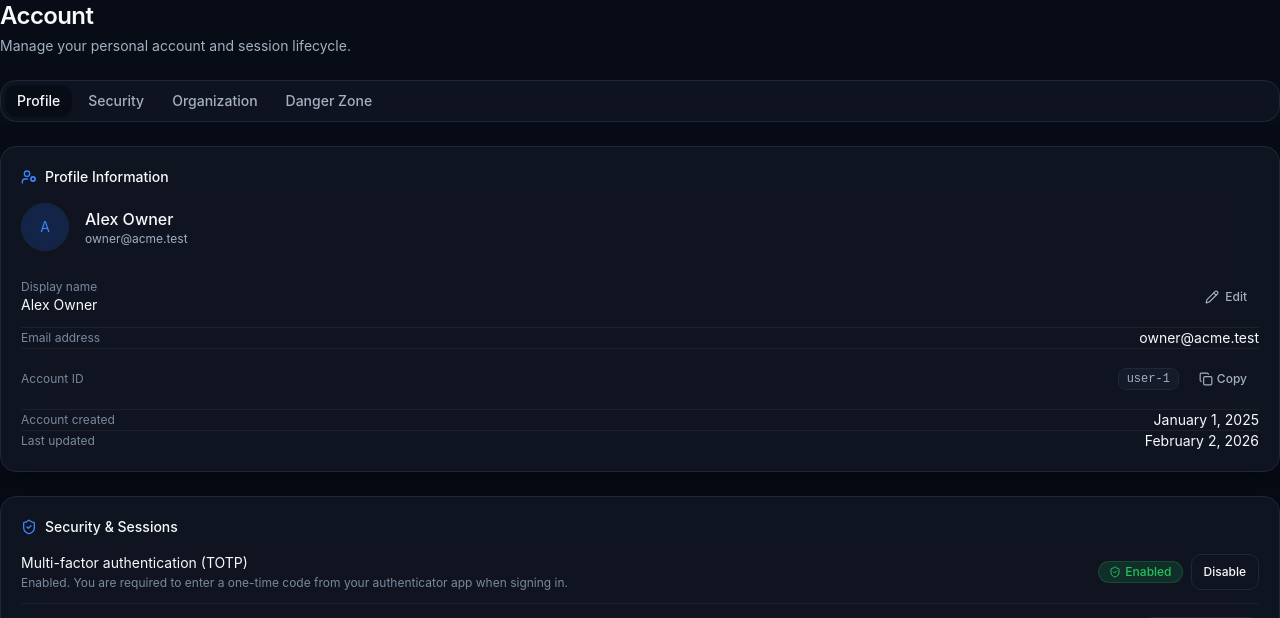
Scenario: Account Page Contract › display name editing › updates the display name via the authenticated-context-only PATCH
Click the button "Edit": (1226, 297) 1193,279 -> 1259,315
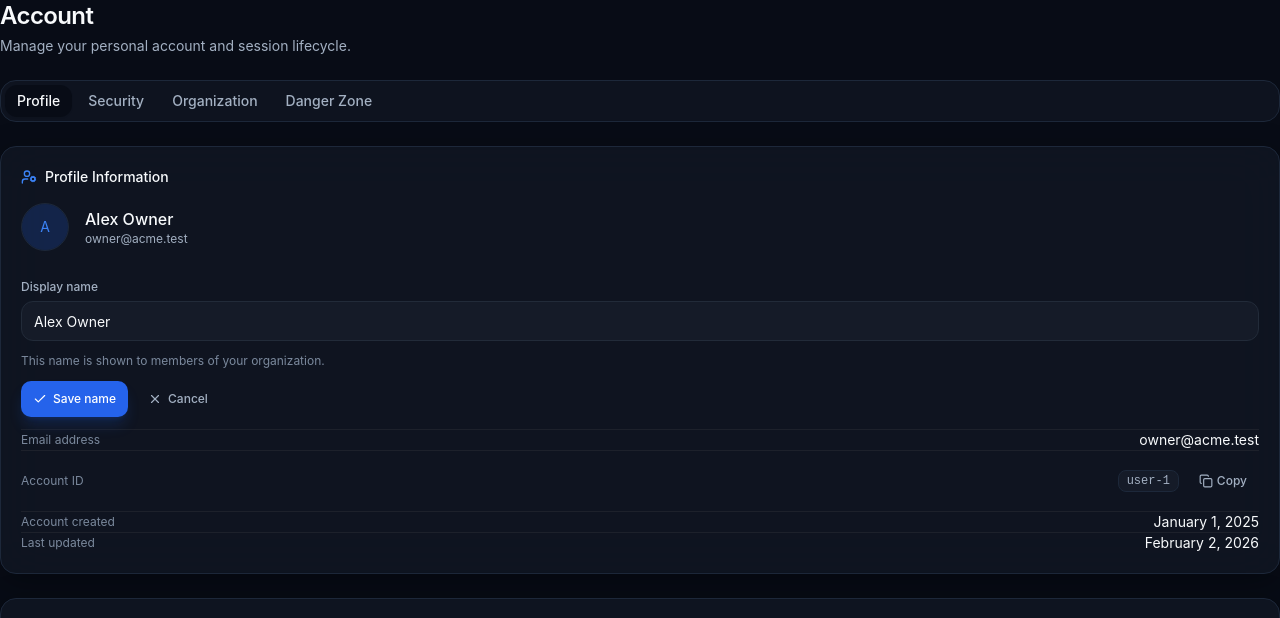
Replace the text in the field labelled "Display name" with "Renamed User": (640, 321) 21,301 -> 1259,341
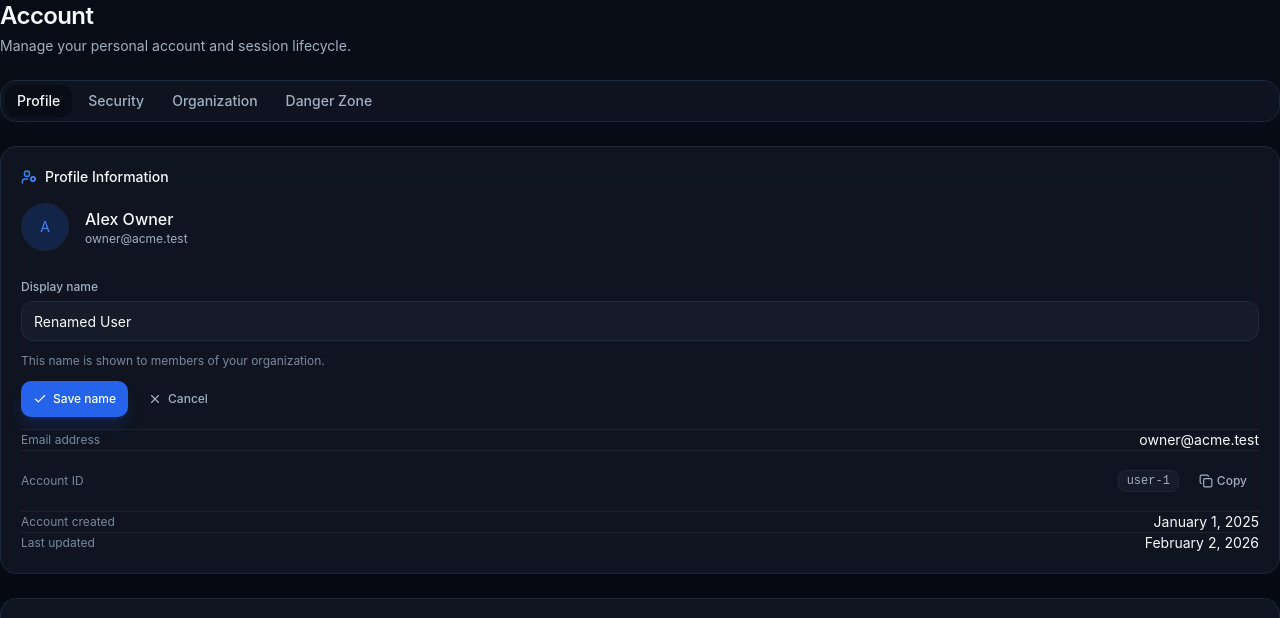
Click the button "Save name": (74, 399) 21,381 -> 128,417
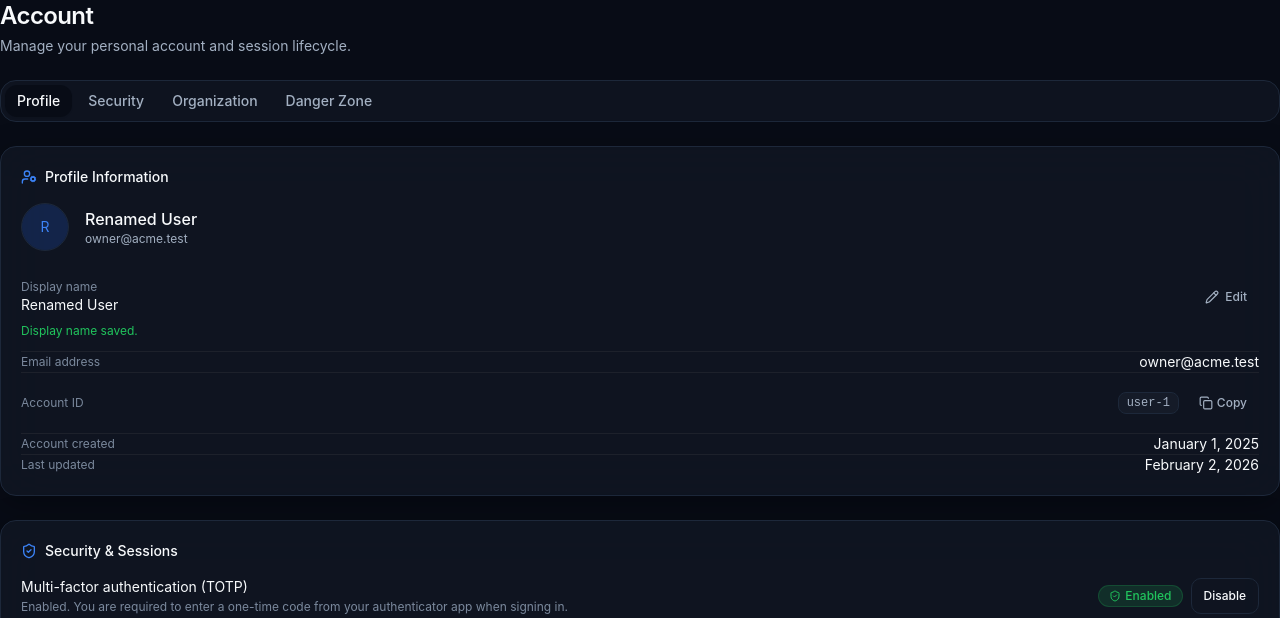
Now the 1st text "Renamed User" is shown, box 85,207 -> 197,231
